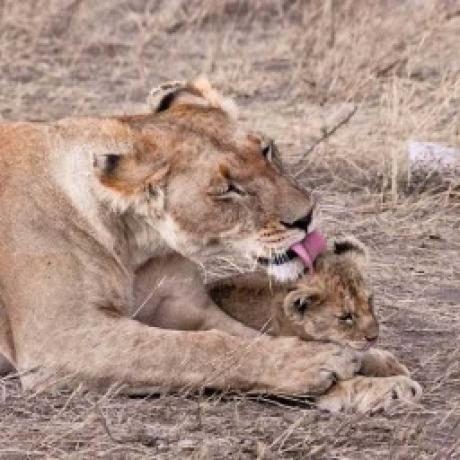Lion: (0, 75, 428, 417), (206, 235, 382, 352)
